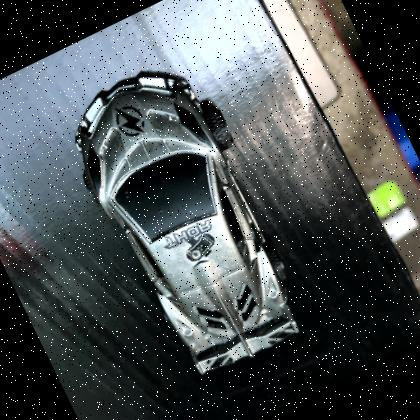Car: (74, 70, 297, 370)
